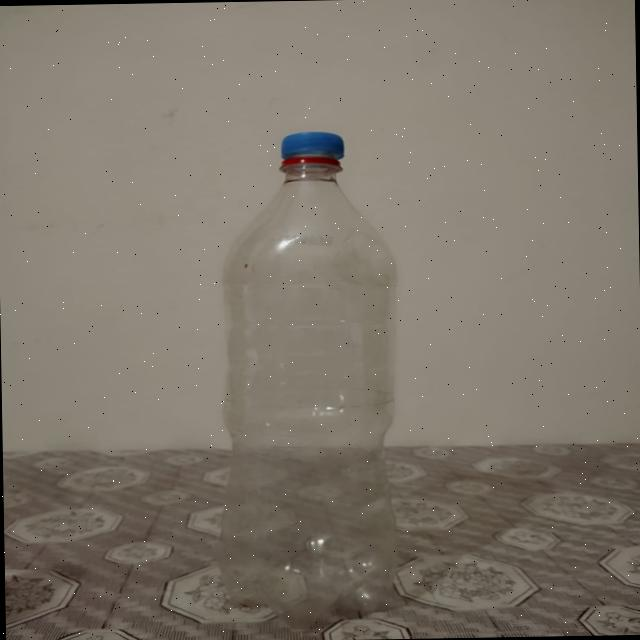bottle: (215, 127, 402, 623)
cap: (278, 130, 345, 168)
